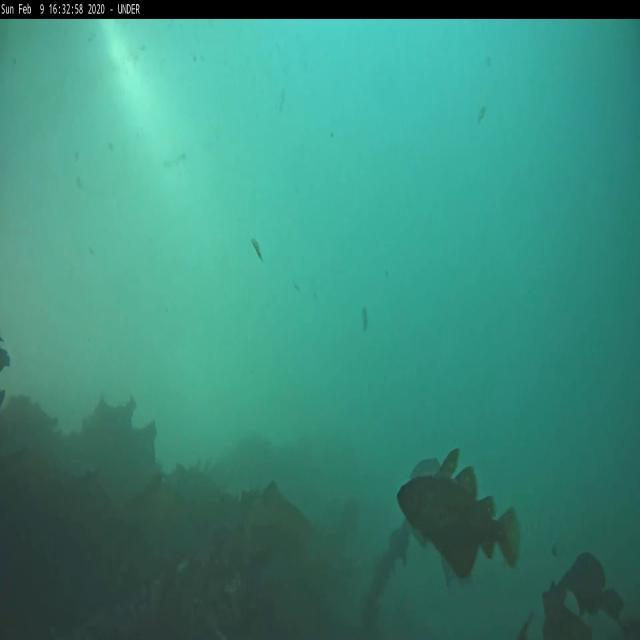fish: (397, 447, 520, 585)
